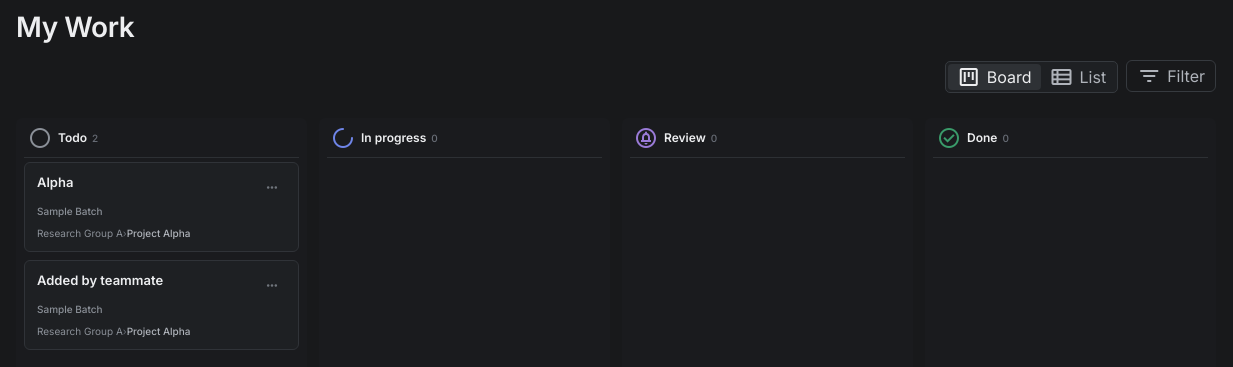
it: My Work realtime — personal invalidations › updates the Board and the List authoritatively on my_work_changed
Expected: the button with aria-label "Open Alpha" is shown, [24,162,299,252]
Expected: the button with aria-label "Open Added by teammate" is shown, [24,260,299,350]
Click the button "List" at (1078, 77), box [1040,64,1115,90]
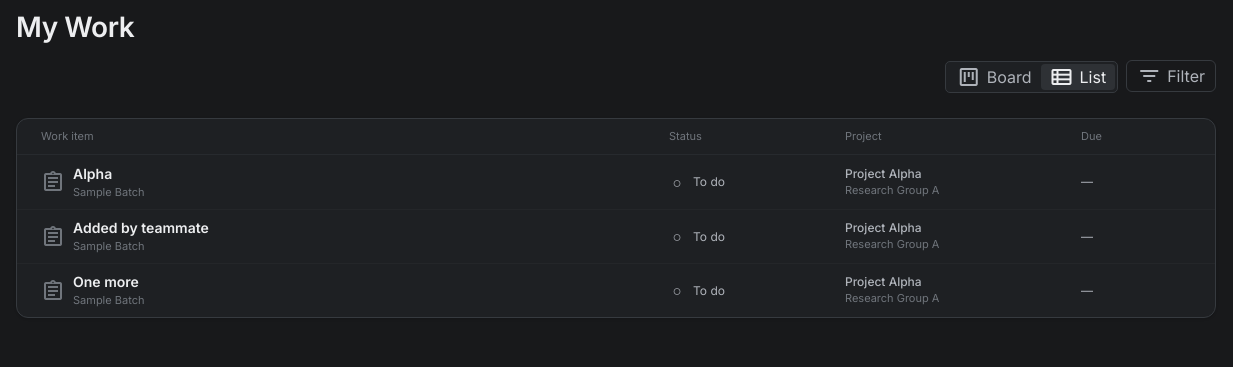
Expected: the button with aria-label "Open Added by teammate" is shown, [17,209,1215,263]
Expected: the button with aria-label "Open One more" is shown, [17,263,1215,317]
